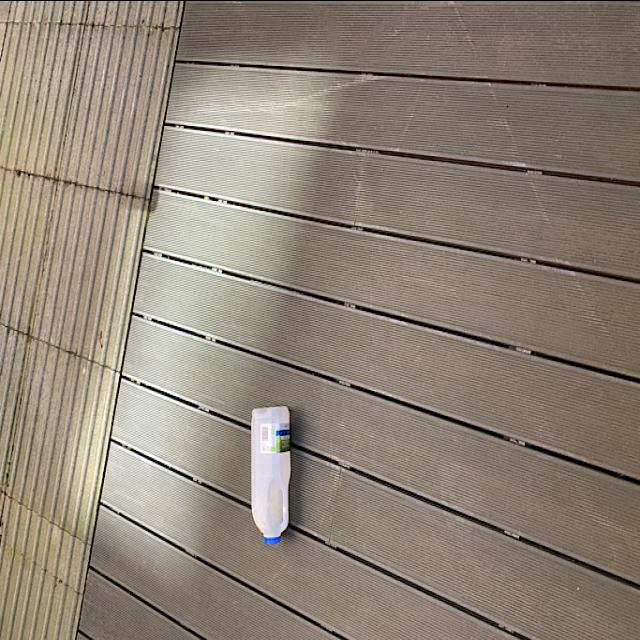litter: (250, 398, 290, 548)
